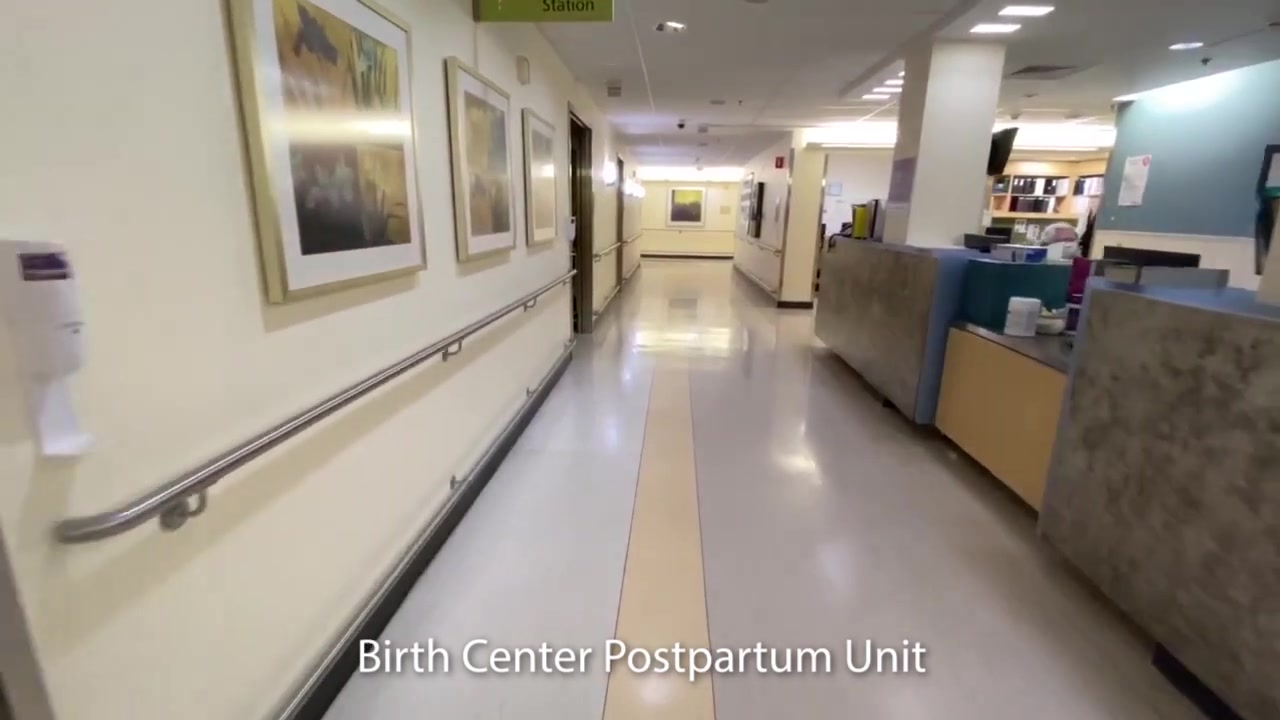TV: (984, 126, 1020, 176)
computer: (963, 231, 1008, 256)
counter: (1040, 275, 1280, 720), (814, 235, 1071, 426)
countertop: (1091, 275, 1280, 323)
dispenser: (1, 237, 86, 461), (566, 216, 576, 241)
hallway_assist_bar: (50, 257, 578, 547), (268, 334, 589, 720), (732, 262, 775, 296), (595, 284, 622, 320), (746, 239, 782, 256), (593, 242, 621, 262)
table: (937, 303, 1067, 518)
